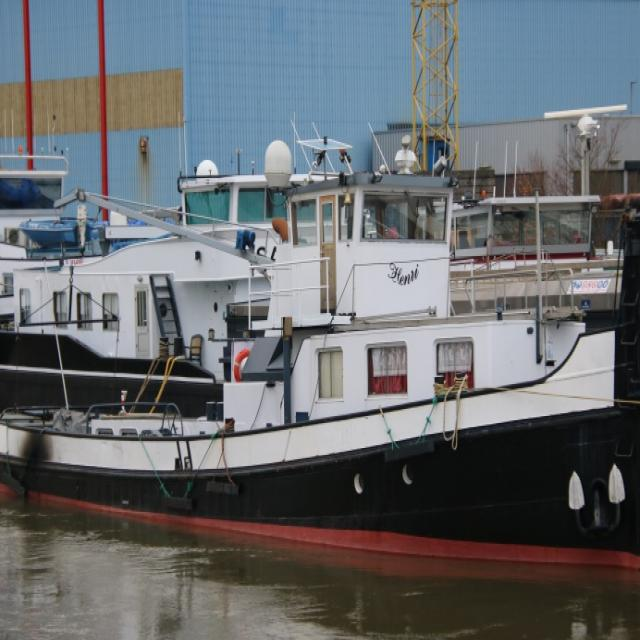tugboat: (1, 129, 640, 602)
